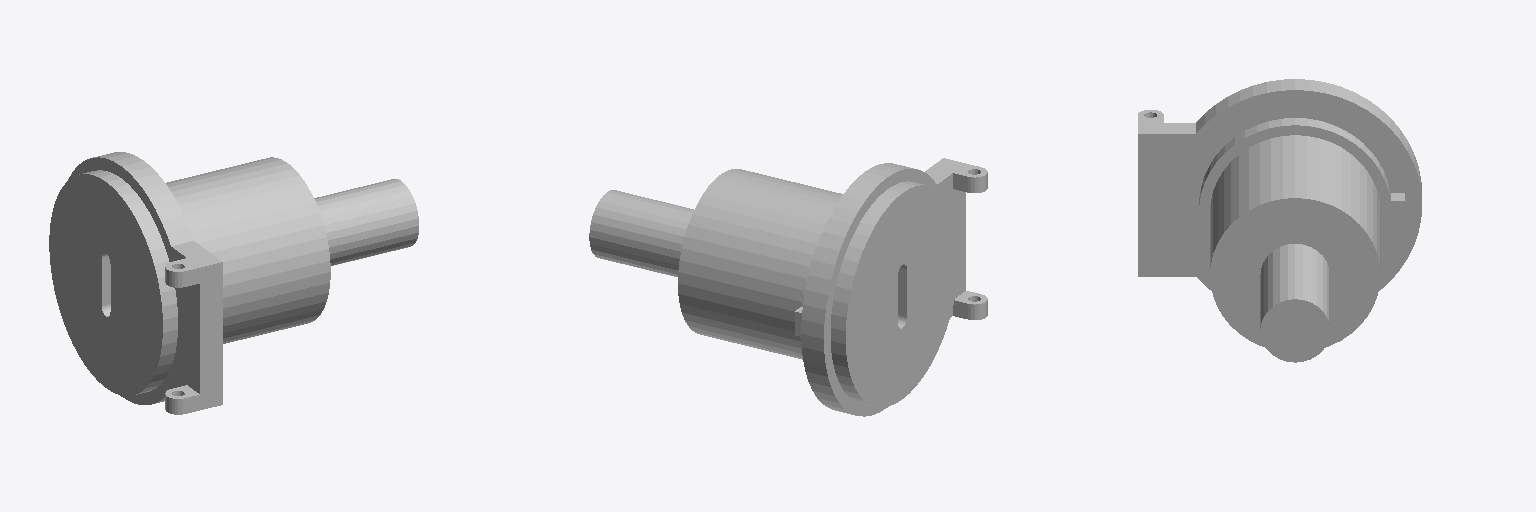
Rendered from torso_l3_6.obj.
3 renders of one model, left to right at view 1: azimuth 30°, elevation 25°; view 2: azimuth 150°, elevation 25°; view 3: azimuth 270°, elevation 25°, orthographic.
Bounding box in the file's own units: 0.0405 × 0.029 × 0.0325.